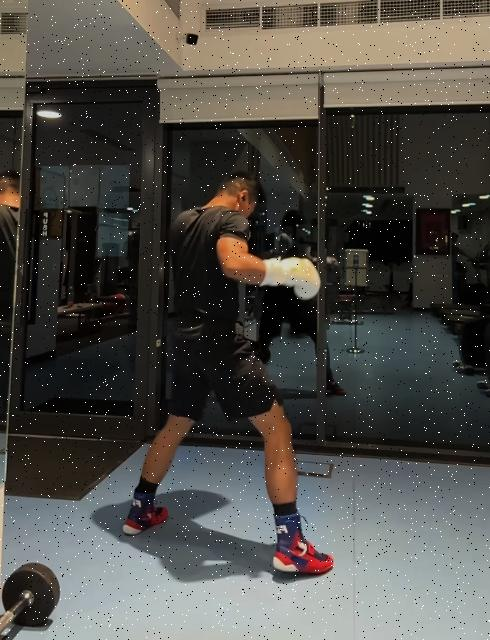punch: (120, 170, 334, 580)
